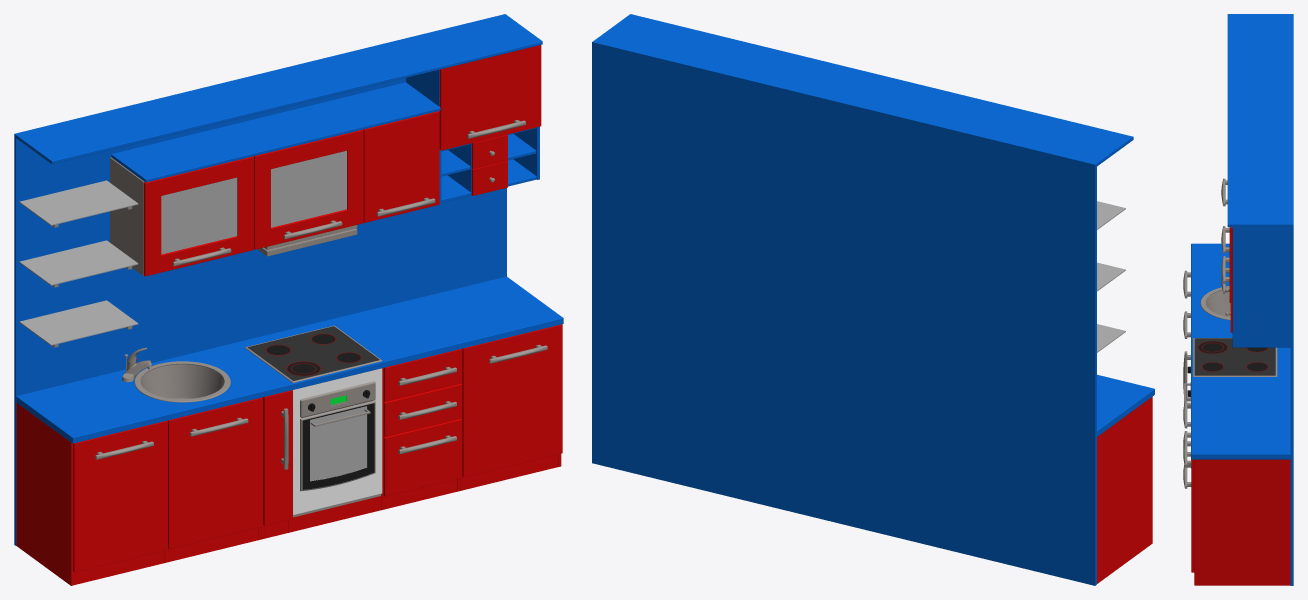
The model's file is kitchen quadro.fbx.
The picture shows the model from 3 angles, left to right: view 1: azimuth 30°, elevation 25°; view 2: azimuth 150°, elevation 25°; view 3: azimuth 270°, elevation 25°; orthographic projection. The views are drawn at different scales.
Parts seen in each view (by area): view 1: kq_zadnja_DC_Shell, kq_vrata_4_DC_Shell (×2), kq_radna_ploca_DC_Shell, kq_gornja_stranica_DC_Shell, oven_DC_Shell (×6), kq_vrata_1_kuhinja_quadro_DC_Shell, kq_gore_vrata_levo_5_kuhinja_quadro_DC_Shell (×2), kq_gore_polica_ispod_DC_Shell, kq_vrata_staklo1_kuhinja_quadro_DC_Shell (×2), kq_staklena_polica_kuhinja_quadro_DC_Shell (×3), kq_bocna_donja_DC_Shell, kq_gore_vrata_desno_DC_Shell (+14 smaller); view 2: kq_zadnja_DC_Shell, kq_gornja_stranica_DC_Shell, kq_bocna_donja_DC_Shell, kq_radna_ploca_DC_Shell; view 3: kq_gornja_stranica_DC_Shell, kq_bocna_donja_DC_Shell, kq_radna_ploca_DC_Shell, kq_gornja_bocna_DC_Shell, oven_DC_Shell (×2), kq_zadnja_DC_Shell, mmk_sudopera_DC_Shell, kq_vrata_1_kuhinja_quadro_DC_Shell, kq_rucica_DC_Shell (×2), kq_gore_vrata_desno_DC_Shell.
Part boxes in pixels (left/top/right/bottom): kq_zadnja_DC_Shell: left=14, top=14, right=506, bottom=545; kq_vrata_4_DC_Shell (×2): left=73, top=397, right=262, bottom=572; kq_radna_ploca_DC_Shell: left=16, top=276, right=563, bottom=443; kq_gornja_stranica_DC_Shell: left=16, top=15, right=542, bottom=163; oven_DC_Shell (×6): left=247, top=326, right=382, bottom=515; kq_vrata_1_kuhinja_quadro_DC_Shell: left=462, top=324, right=562, bottom=477; kq_gore_vrata_levo_5_kuhinja_quadro_DC_Shell (×2): left=143, top=129, right=363, bottom=276; kq_gore_polica_ispod_DC_Shell: left=111, top=82, right=440, bottom=182; kq_vrata_staklo1_kuhinja_quadro_DC_Shell (×2): left=161, top=150, right=346, bottom=254; kq_staklena_polica_kuhinja_quadro_DC_Shell (×3): left=19, top=180, right=138, bottom=345; kq_bocna_donja_DC_Shell: left=16, top=402, right=73, bottom=585; kq_gore_vrata_desno_DC_Shell: left=439, top=45, right=541, bottom=150; kq_zadnja_DC_Shell: left=592, top=41, right=1096, bottom=585; kq_gornja_stranica_DC_Shell: left=594, top=14, right=1133, bottom=166; kq_bocna_donja_DC_Shell: left=1097, top=396, right=1152, bottom=583; kq_radna_ploca_DC_Shell: left=1097, top=374, right=1154, bottom=436; kq_gornja_stranica_DC_Shell: left=1227, top=14, right=1290, bottom=227; kq_bocna_donja_DC_Shell: left=1194, top=459, right=1290, bottom=585; kq_radna_ploca_DC_Shell: left=1191, top=243, right=1290, bottom=459; kq_gornja_bocna_DC_Shell: left=1232, top=227, right=1290, bottom=347; oven_DC_Shell (×2): left=1193, top=338, right=1277, bottom=376; kq_zadnja_DC_Shell: left=1290, top=14, right=1293, bottom=585; mmk_sudopera_DC_Shell: left=1200, top=286, right=1230, bottom=320; kq_vrata_1_kuhinja_quadro_DC_Shell: left=1191, top=459, right=1194, bottom=572; kq_rucica_DC_Shell (×2): left=1183, top=351, right=1191, bottom=467; kq_gore_vrata_desno_DC_Shell: left=1229, top=227, right=1232, bottom=299.
Bounding box in the file's own units: 3000 × 2400 × 666.
